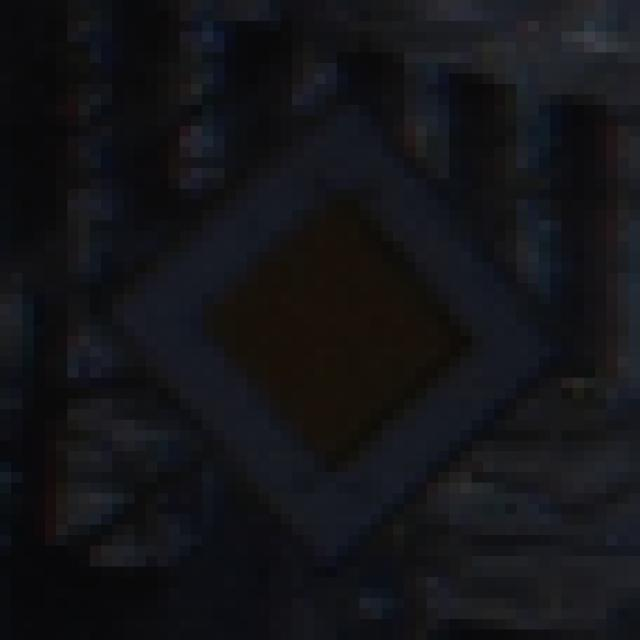Main Road: (68, 54, 585, 589)
